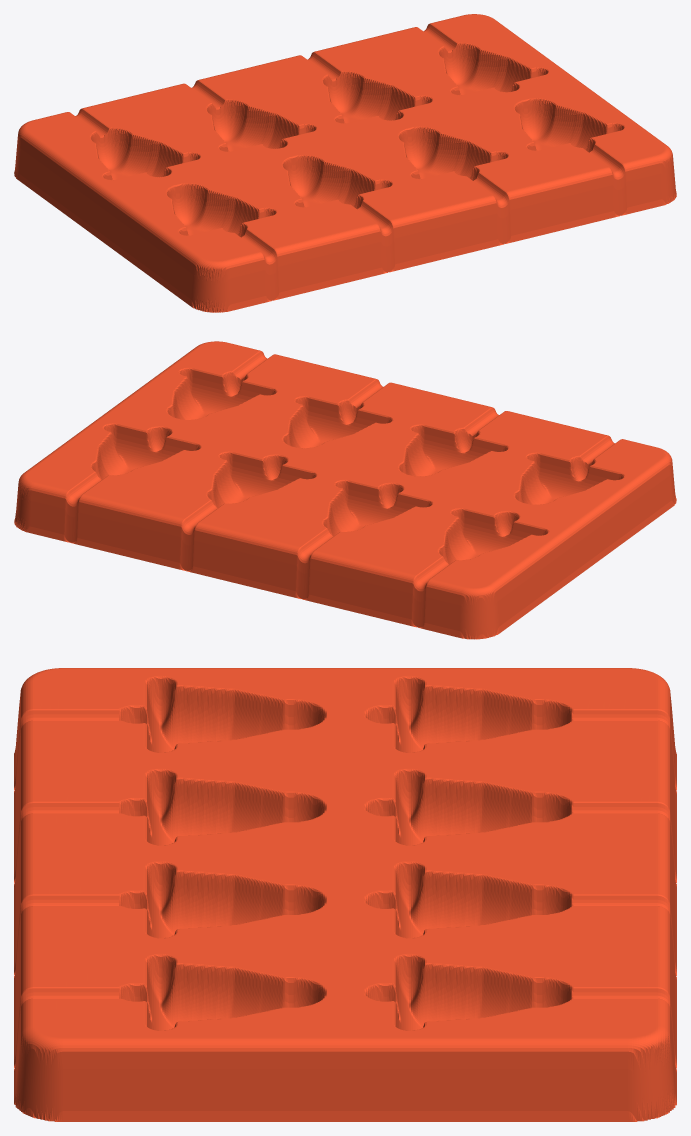
Rendered from mold.glb.
3 views of the same model, one above another, from view 1: azimuth 30°, elevation 25°; view 2: azimuth 150°, elevation 25°; view 3: azimuth 270°, elevation 25° (orthographic). The views are drawn at different scales.
Visible parts, largest first — view 1: geometry_0; view 2: geometry_0; view 3: geometry_0.
Part boxes in pixels (box(x1,y1,x2,y2)): geometry_0: box(14, 14, 676, 312); geometry_0: box(14, 341, 676, 639); geometry_0: box(14, 668, 676, 1121).
Bounding box in the file's own units: 0.169 × 0.0155 × 0.1229.
